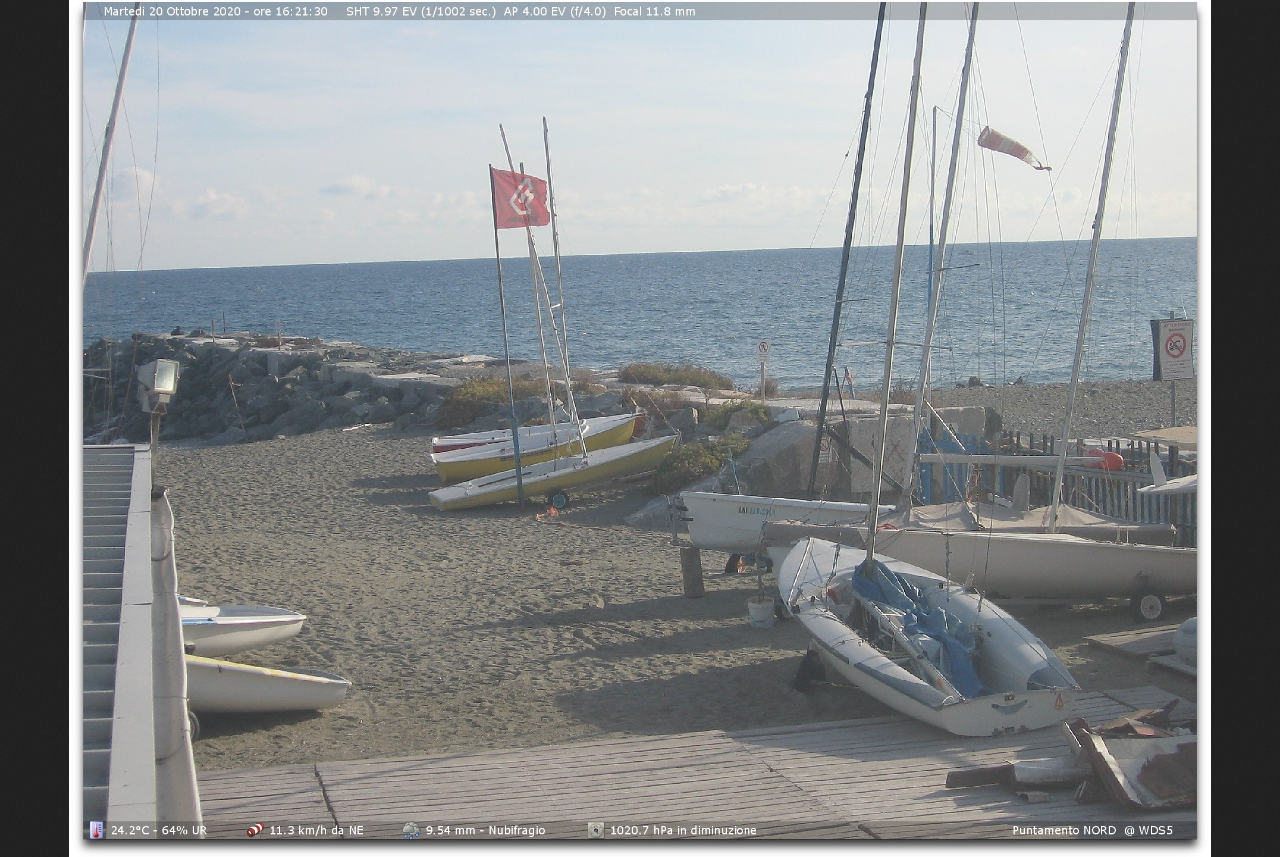yes: (493, 168, 551, 231)
